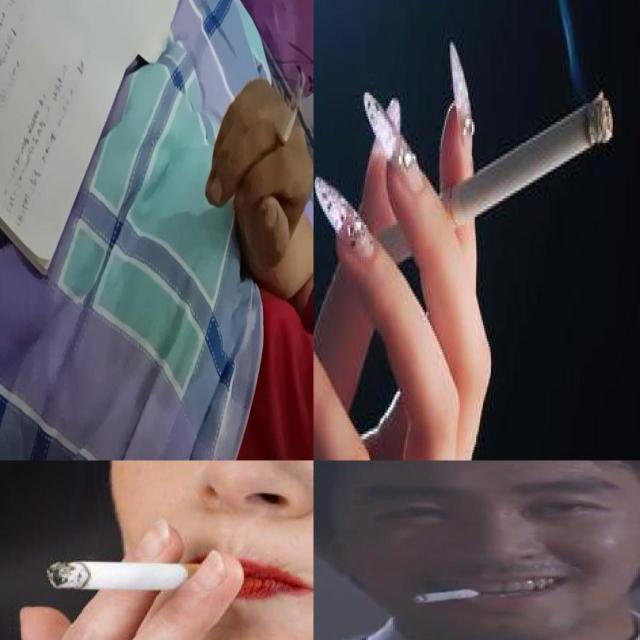smoking: (361, 94, 615, 266), (44, 556, 200, 591), (273, 70, 307, 157), (410, 586, 490, 604)
